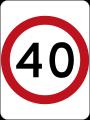Speed limit -40-: (14, 40, 76, 81)
